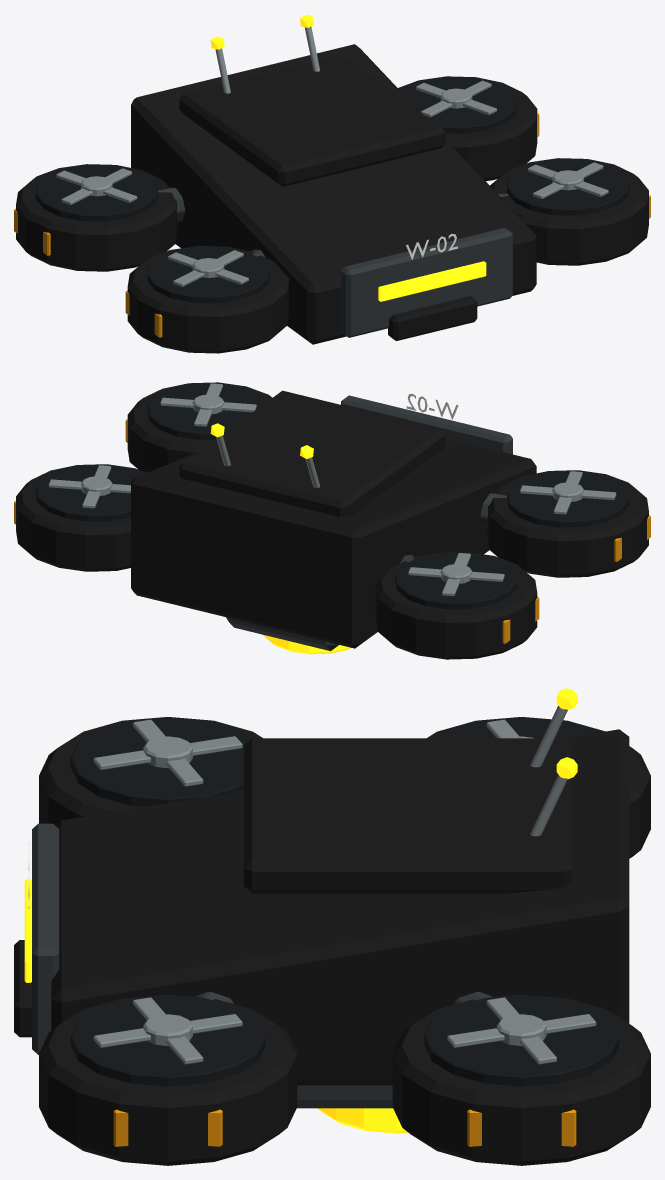
Rendered from wraith.glb.
The picture shows the model from 3 angles, top to bottom: view 1: azimuth 30°, elevation 25°; view 2: azimuth 150°, elevation 25°; view 3: azimuth 270°, elevation 25°; orthographic projection. The views are drawn at different scales.
Visible parts, largest first — view 1: Cylinder095_2, Cylinder095_1, Cylinder095_5, Cylinder095_3, Cylinder095, Cylinder095_7, Cylinder095_6; view 2: Cylinder095_2, Cylinder095_1, Cylinder095_5, Cylinder095, Cylinder095_3, Cylinder095_6, Cylinder095_4; view 3: Cylinder095_2, Cylinder095_1, Cylinder095_5, Cylinder095, Cylinder095_3, Cylinder095_6, Cylinder095_7, Cylinder095_4.
Part boxes in pixels (left/top/right/bottom): Cylinder095_2: left=16, top=55, right=648, bottom=353; Cylinder095_1: left=131, top=44, right=536, bottom=344; Cylinder095_5: left=35, top=76, right=629, bottom=303; Cylinder095_3: left=158, top=187, right=512, bottom=337; Cylinder095: left=56, top=26, right=608, bottom=286; Cylinder095_7: left=210, top=14, right=486, bottom=301; Cylinder095_6: left=14, top=113, right=650, bottom=337; Cylinder095_2: left=16, top=382, right=648, bottom=659; Cylinder095_1: left=131, top=438, right=536, bottom=648; Cylinder095_5: left=35, top=382, right=629, bottom=609; Cylinder095: left=48, top=383, right=616, bottom=596; Cylinder095_3: left=226, top=395, right=512, bottom=651; Cylinder095_6: left=14, top=419, right=650, bottom=643; Cylinder095_4: left=263, top=635, right=350, bottom=654; Cylinder095_2: left=14, top=717, right=650, bottom=1165; Cylinder095_1: left=51, top=729, right=629, bottom=1085; Cylinder095_5: left=70, top=717, right=619, bottom=1086; Cylinder095: left=93, top=705, right=596, bottom=1064; Cylinder095_3: left=32, top=823, right=492, bottom=1108; Cylinder095_6: left=113, top=1109, right=576, bottom=1146; Cylinder095_7: left=24, top=688, right=577, bottom=982; Cylinder095_4: left=317, top=1108, right=407, bottom=1133.
Size of the model in its own units: 0.6 by 0.2725 by 0.4173.
